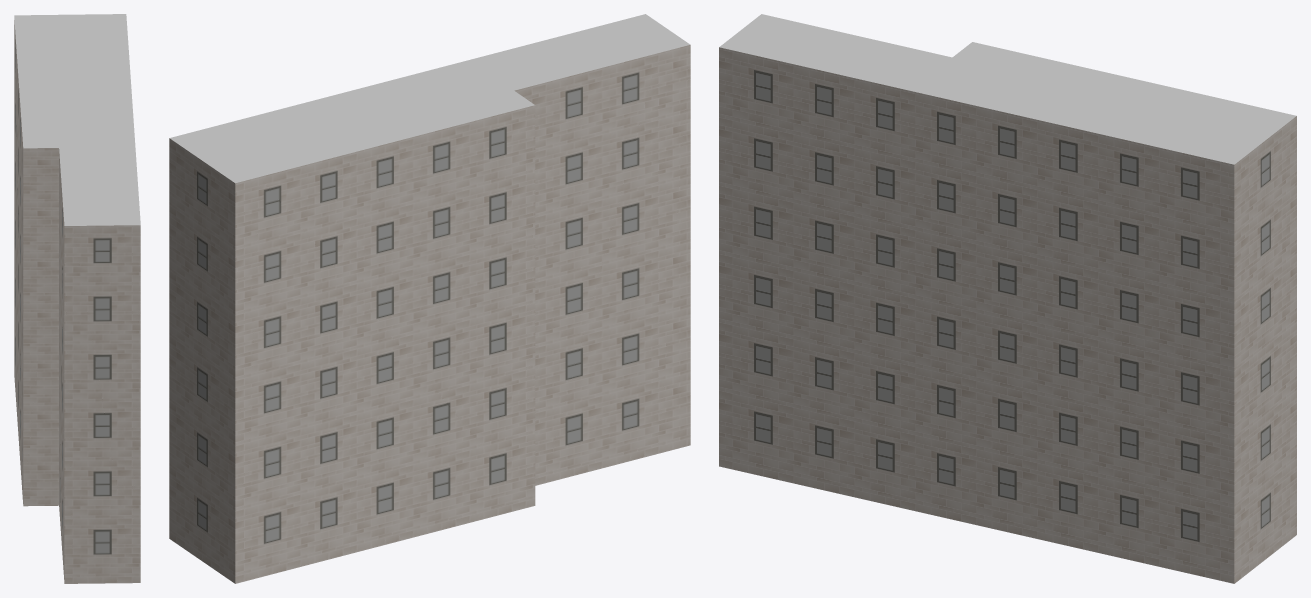
File: building-0-1-75.dae
The picture shows the model from 3 angles, left to right: view 1: azimuth 30°, elevation 25°; view 2: azimuth 150°, elevation 25°; view 3: azimuth 270°, elevation 25°; orthographic projection. The views are drawn at different scales.
Visible parts, largest first — view 1: geopipeinodefsKg5Hqw (×3); view 2: geopipeinodefsKg5Hqw (×3); view 3: geopipeinodefsKg5Hqw (×3).
Part boxes in pixels (x1=…): geopipeinodefsKg5Hqw (×3): x1=14, y1=14, x2=140, y2=583; geopipeinodefsKg5Hqw (×3): x1=169, y1=14, x2=690, y2=583; geopipeinodefsKg5Hqw (×3): x1=719, y1=14, x2=1296, y2=583.
Size of the model in its own units: 16.27 by 26.35 by 21.1.
